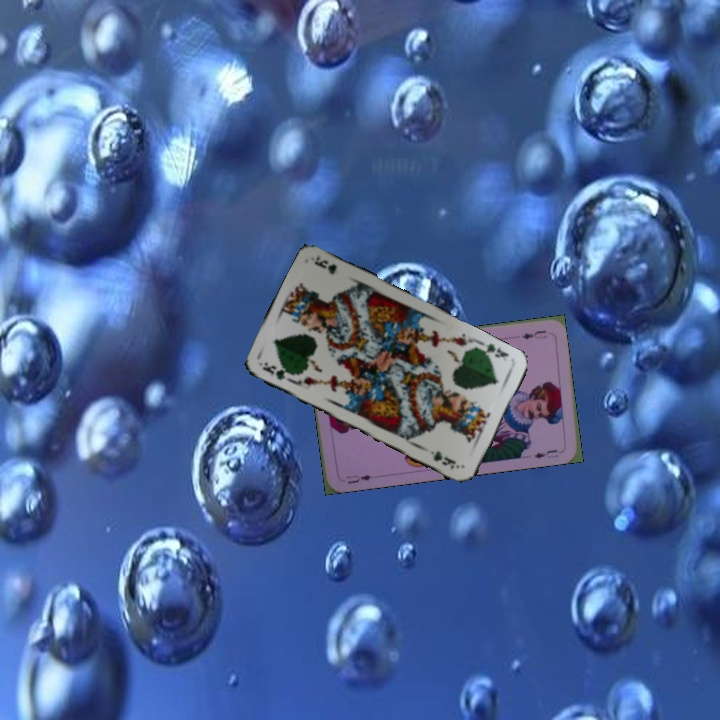EU: (518, 326, 549, 342), (342, 471, 374, 486)
GK: (256, 358, 296, 382), (477, 339, 511, 361)
